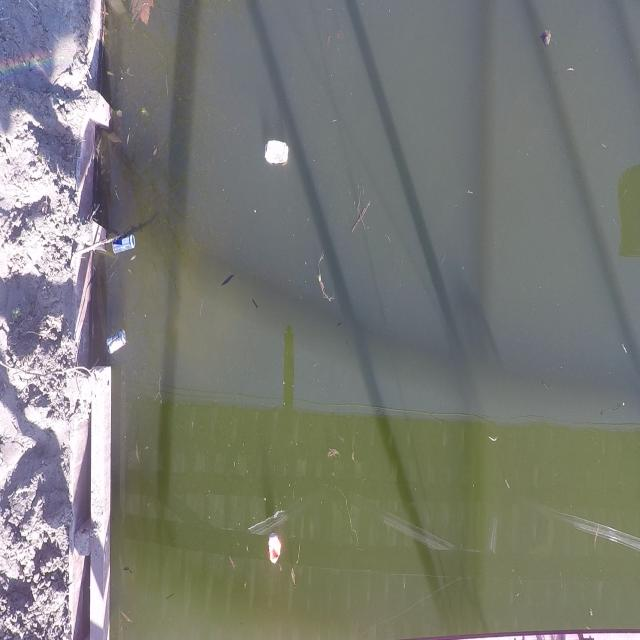Non plastique: (107, 226, 140, 259), (262, 137, 292, 169), (102, 328, 130, 362), (266, 523, 285, 568)
